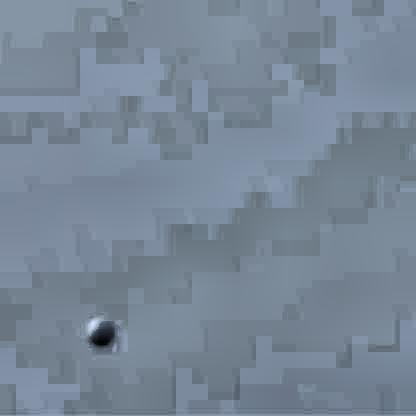golfball: (85, 311, 113, 342)
